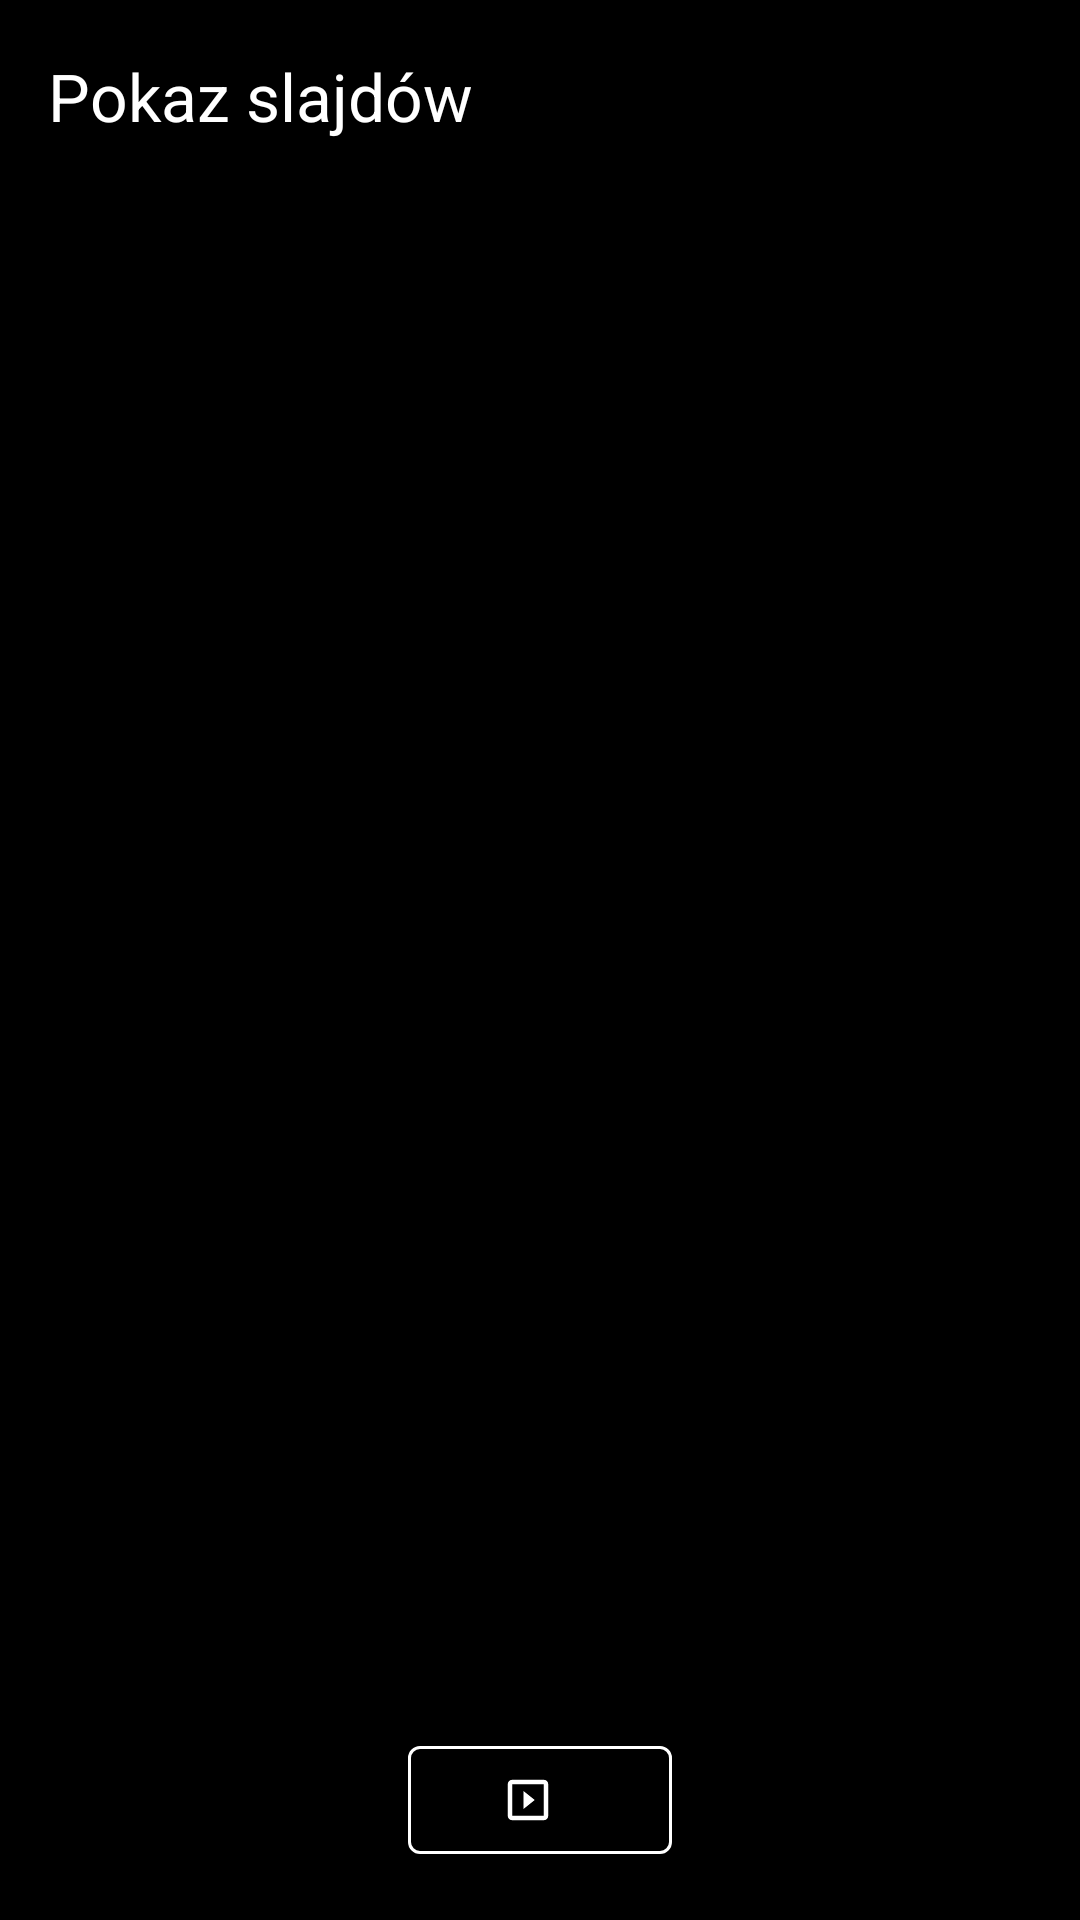

Named icons in this screenshot (1080x1920) and their centers, [x,y]:
slideshow: [540,1800]
